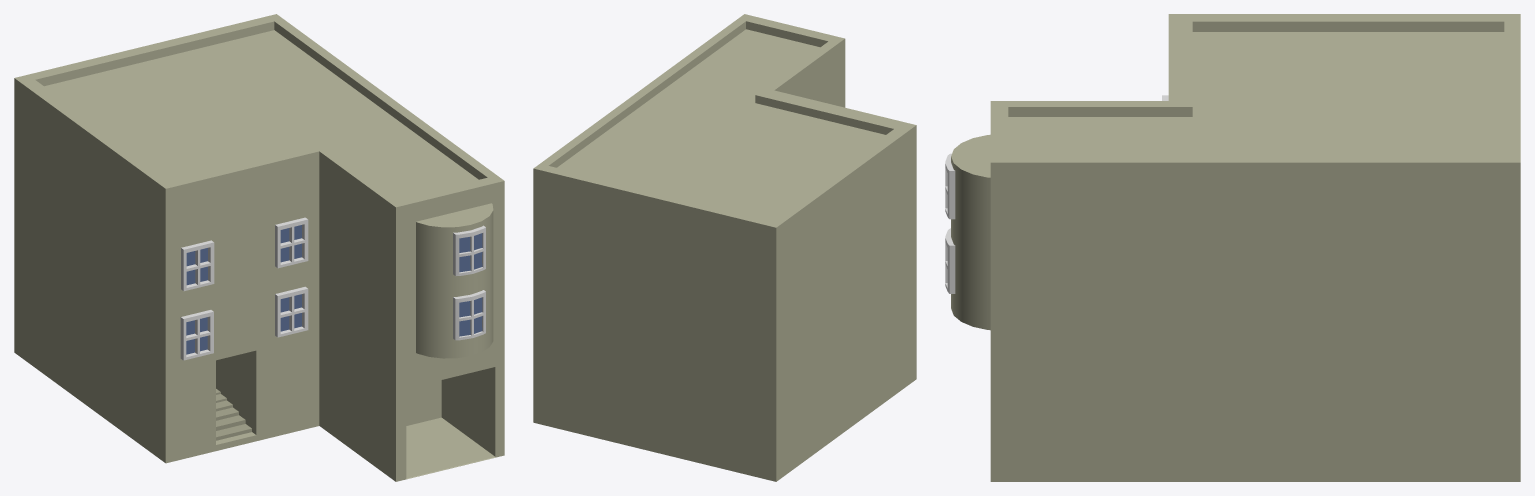
File: Building 005.fbx
The picture shows the model from 3 angles, left to right: view 1: azimuth 30°, elevation 25°; view 2: azimuth 150°, elevation 25°; view 3: azimuth 270°, elevation 25°; orthographic projection. The views are drawn at different scales.
Visible parts, largest first — view 1: polySurface14, polySurface13, polySurface6, polySurface4, polySurface3, polySurface5, polySurface2, polySurface1, pPlane2, pPlane1; view 2: polySurface14; view 3: polySurface14, polySurface13, polySurface2, polySurface1.
Boxes of the visible parts, x1=… form: polySurface14: x1=14, y1=14, x2=504, y2=481; polySurface13: x1=416, y1=203, x2=493, y2=358; polySurface6: x1=180, y1=310, x2=213, y2=360; polySurface4: x1=275, y1=217, x2=308, y2=268; polySurface3: x1=181, y1=240, x2=214, y2=291; polySurface5: x1=275, y1=286, x2=308, y2=337; polySurface2: x1=453, y1=225, x2=485, y2=275; polySurface1: x1=453, y1=290, x2=485, y2=340; pPlane2: x1=459, y1=233, x2=482, y2=272; pPlane1: x1=459, y1=297, x2=482, y2=336; polySurface14: x1=533, y1=14, x2=916, y2=481; polySurface14: x1=990, y1=14, x2=1520, y2=481; polySurface13: x1=951, y1=134, x2=990, y2=330; polySurface2: x1=945, y1=153, x2=955, y2=219; polySurface1: x1=945, y1=228, x2=955, y2=293.
Size of the model in its own units: 8.27 by 8.27 by 13.51.
